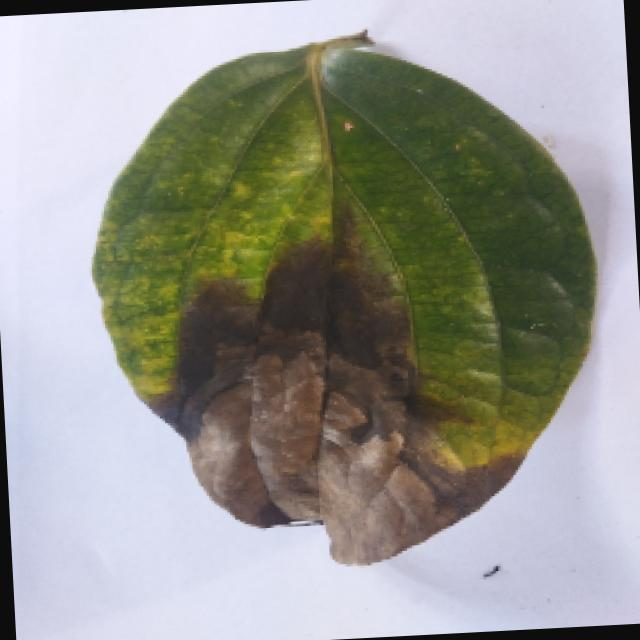footrot: (71, 30, 628, 587)
